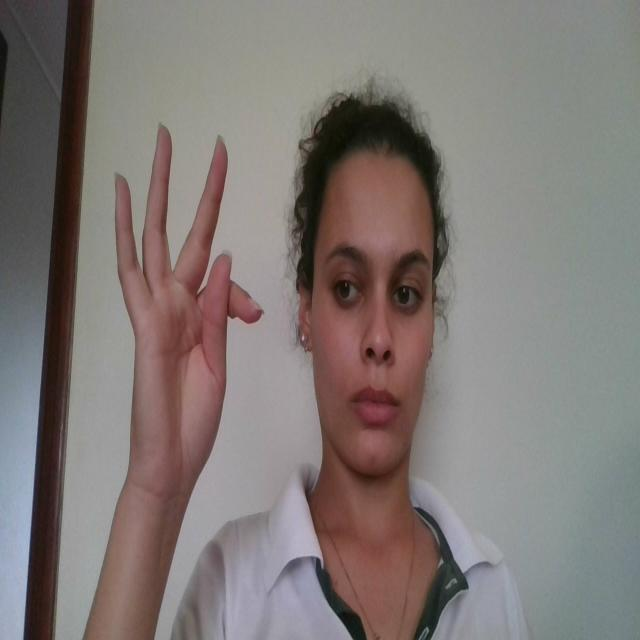T: (110, 112, 265, 468)
